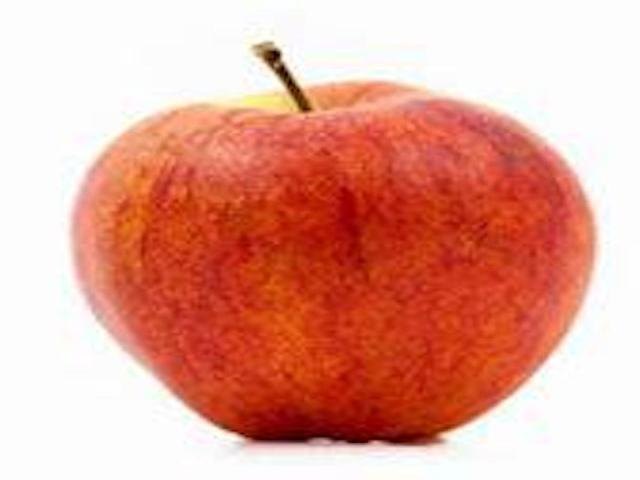apple: (60, 39, 604, 453)
